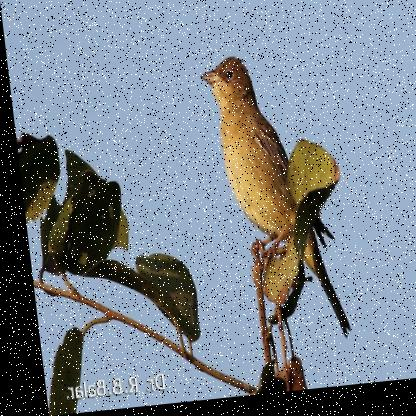Burung: (196, 55, 345, 354)
